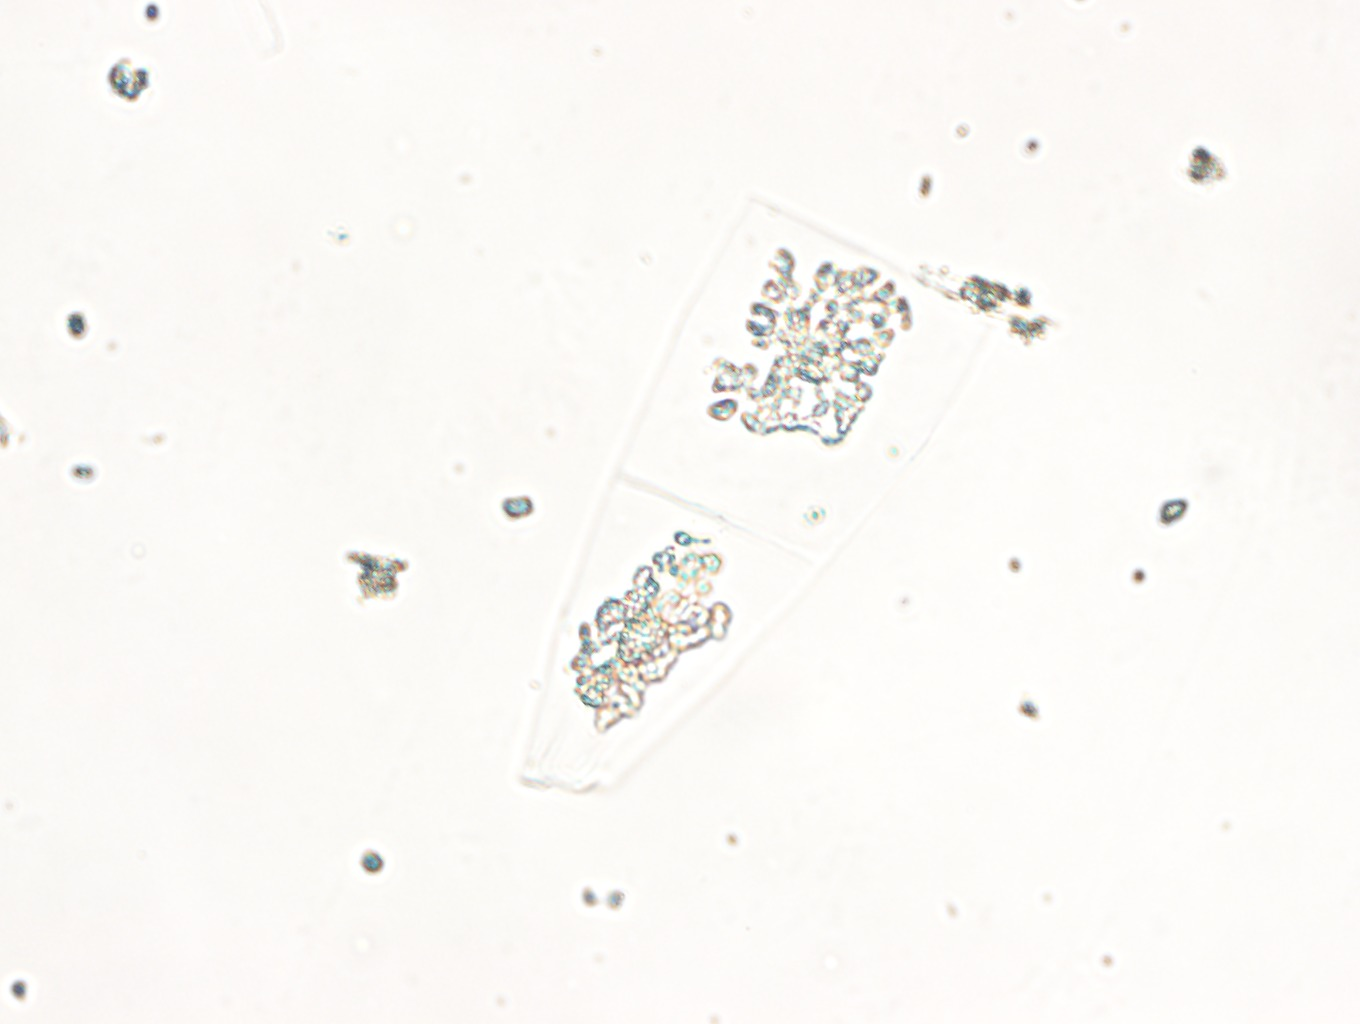helicotheca: (517, 191, 997, 808)
